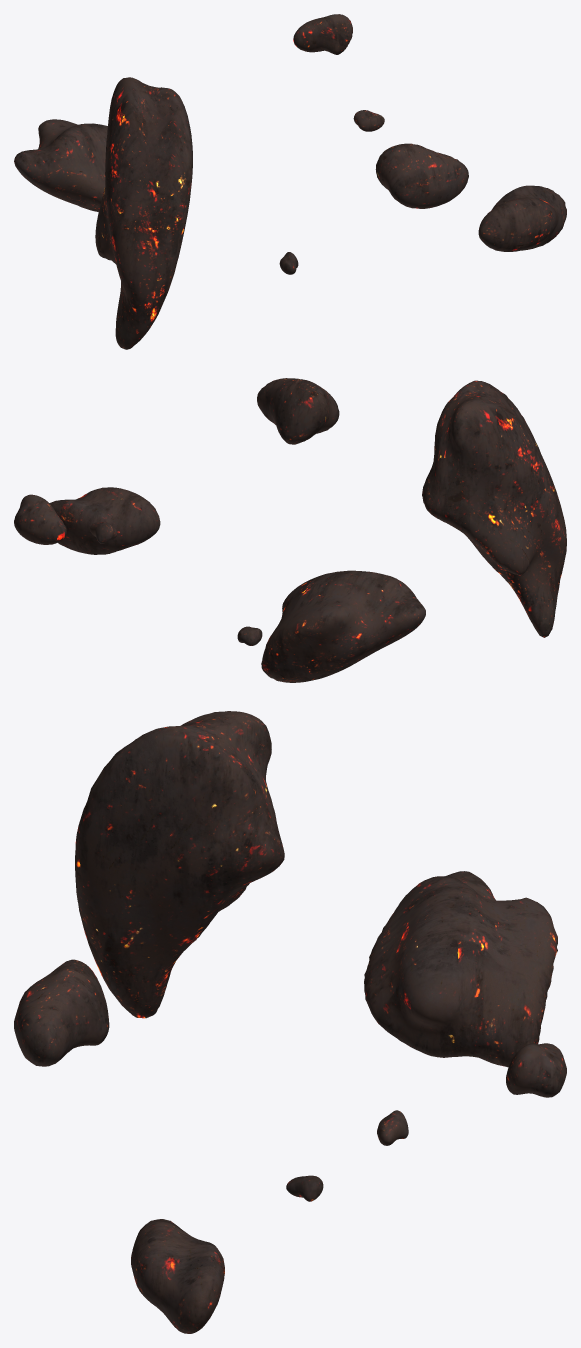
The picture shows the model from 3 angles, top to bottom: view 1: azimuth 30°, elevation 25°; view 2: azimuth 150°, elevation 25°; view 3: azimuth 270°, elevation 25°; orthographic projection. The views are drawn at different scales.
Visible parts, largest first — view 1: Mball.000_Mesh.008; view 2: Mball.000_Mesh.008; view 3: Mball.000_Mesh.008.
Boxes of the visible parts, x1,y1,x2,y2 form: Mball.000_Mesh.008: (14, 14, 566, 349); Mball.000_Mesh.008: (14, 378, 566, 682); Mball.000_Mesh.008: (14, 711, 566, 1333).
Bounding box in the file's own units: 2 × 1.04 × 1.44.
Materials: 1 (1 with a texture image).
